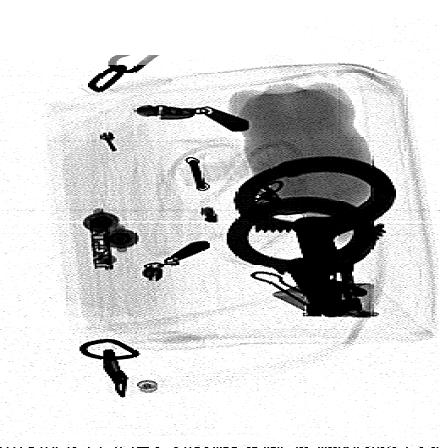HandCuffs: (225, 156, 398, 317)
